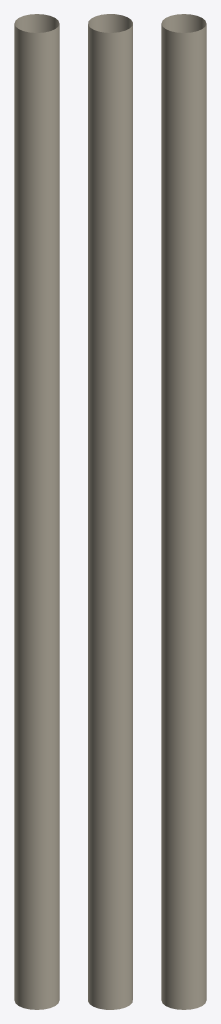
Rendered from rop_test.fbx.
3 renders of one model, left to right at view 1: azimuth 90°, elevation 25°; view 2: azimuth 150°, elevation 25°; view 3: azimuth 270°, elevation 25°, orthographic.
Visible parts, largest first — view 1: pCylinder25, pCylinder1, pCylinder22, pCylinder23, pCylinder16, pCylinder19, pCylinder24, pCylinder4, pCylinder14, pCylinder7, pCylinder18, pCylinder11 (+13 smaller); view 2: pCylinder25, pCylinder1, pCylinder23, pCylinder16, pCylinder14, pCylinder15, pCylinder17, pCylinder19, pCylinder3, pCylinder7, pCylinder18, pCylinder24 (+13 smaller); view 3: pCylinder25, pCylinder1, pCylinder23, pCylinder22, pCylinder3, pCylinder4, pCylinder19, pCylinder7, pCylinder24, pCylinder18, pCylinder16, pCylinder17 (+13 smaller).
Part boxes in pixels (<box>): pCylinder25: <box>14,14,59,73</box>; pCylinder1: <box>14,960,59,1009</box>; pCylinder22: <box>14,141,59,190</box>; pCylinder23: <box>14,102,59,151</box>; pCylinder16: <box>14,375,59,424</box>; pCylinder19: <box>14,258,59,307</box>; pCylinder24: <box>14,63,59,112</box>; pCylinder4: <box>14,843,59,892</box>; pCylinder14: <box>14,455,59,502</box>; pCylinder7: <box>14,728,59,775</box>; pCylinder18: <box>14,297,59,346</box>; pCylinder11: <box>14,572,59,619</box>; pCylinder25: <box>88,14,132,73</box>; pCylinder1: <box>88,959,132,1009</box>; pCylinder23: <box>88,101,132,151</box>; pCylinder16: <box>88,374,132,424</box>; pCylinder14: <box>88,453,132,502</box>; pCylinder15: <box>88,414,132,463</box>; pCylinder17: <box>88,336,132,385</box>; pCylinder19: <box>88,259,132,307</box>; pCylinder3: <box>88,881,132,931</box>; pCylinder7: <box>88,727,132,775</box>; pCylinder18: <box>88,297,132,346</box>; pCylinder24: <box>88,62,132,112</box>; pCylinder25: <box>161,14,206,73</box>; pCylinder1: <box>161,960,206,1009</box>; pCylinder23: <box>161,102,206,151</box>; pCylinder22: <box>161,142,206,190</box>; pCylinder3: <box>161,882,206,931</box>; pCylinder4: <box>161,843,206,892</box>; pCylinder19: <box>161,258,206,307</box>; pCylinder7: <box>161,728,206,775</box>; pCylinder24: <box>161,63,206,112</box>; pCylinder18: <box>161,297,206,346</box>; pCylinder16: <box>161,375,206,424</box>; pCylinder17: <box>161,336,206,385</box>.
Bounding box in the file's own units: 2 × 47.82 × 2.
